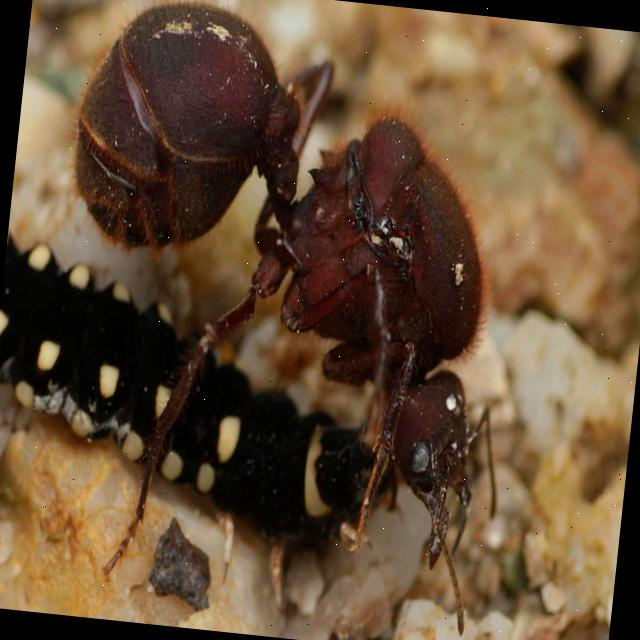Alive-Female-Dealate: (19, 0, 547, 639)
